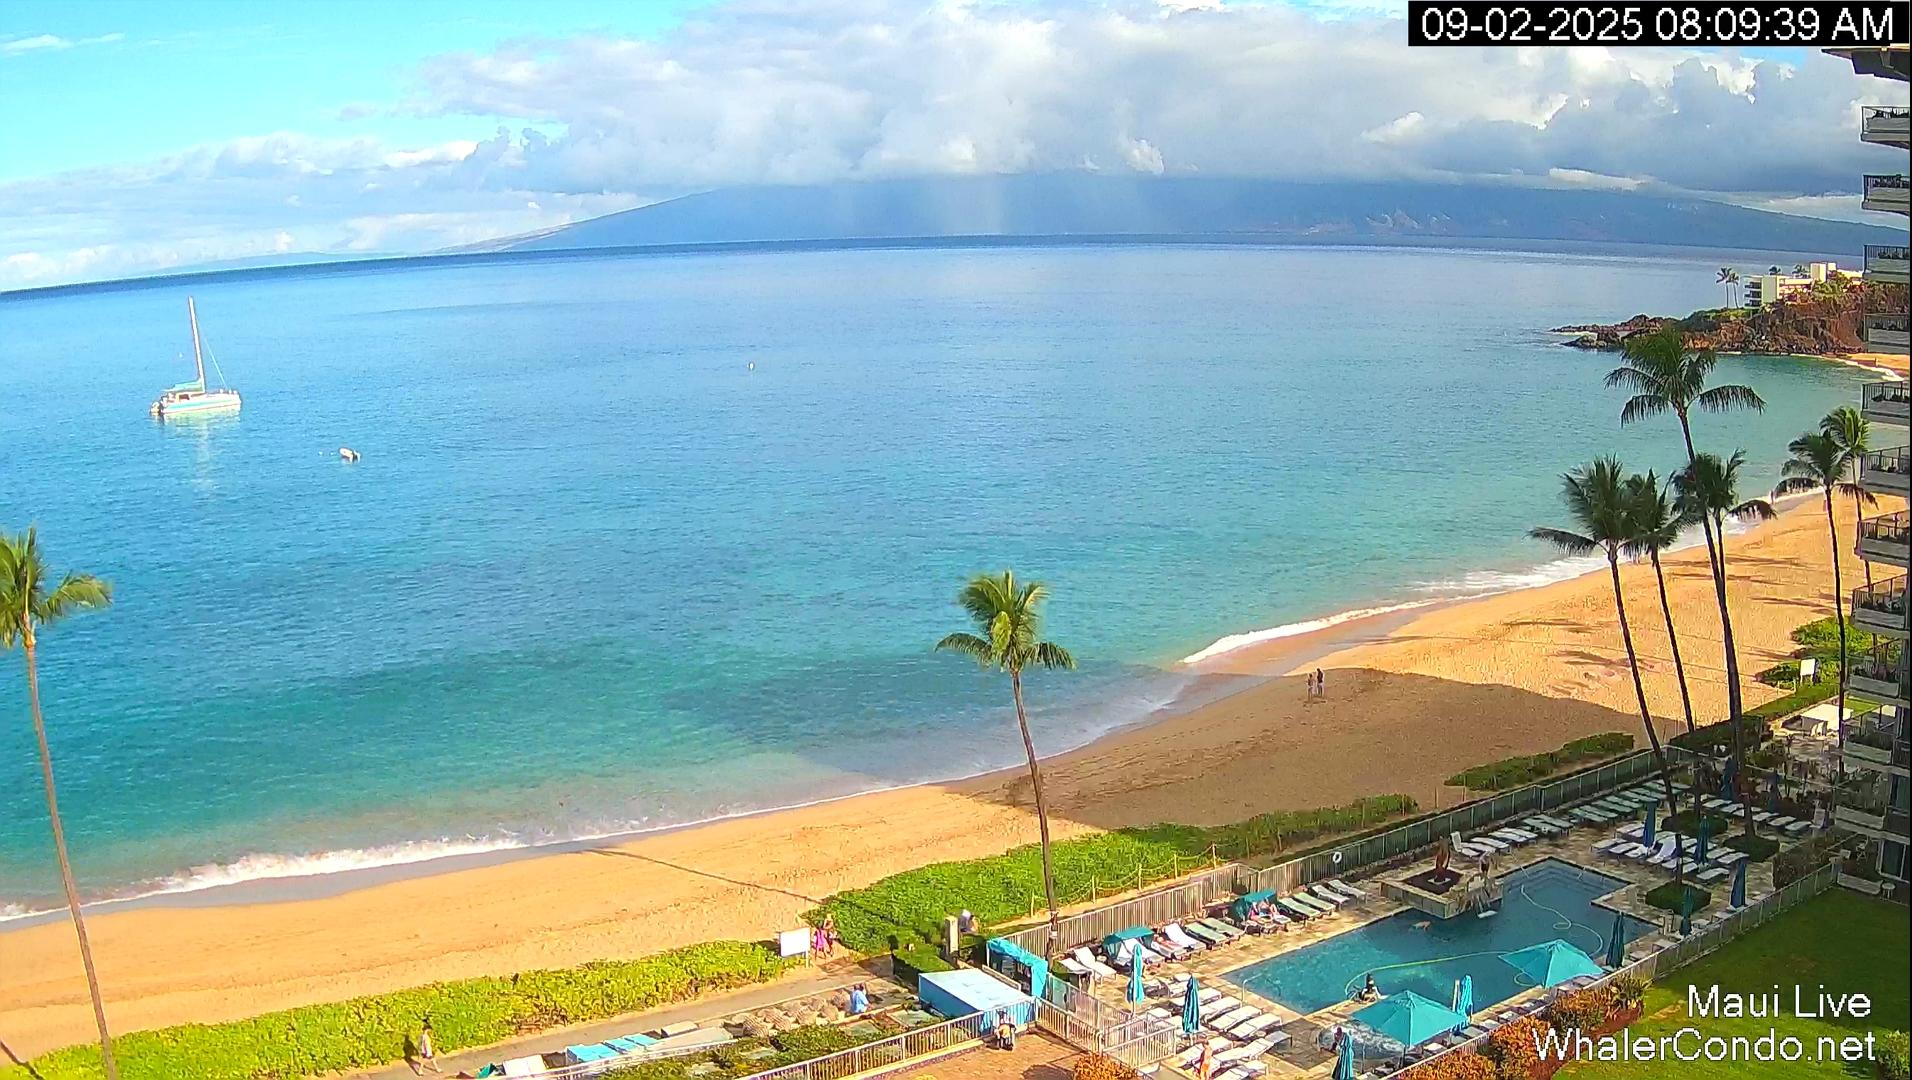boat: (148, 295, 243, 416), (337, 444, 362, 465)
person: (417, 1025, 444, 1076), (1149, 929, 1179, 952), (852, 983, 872, 1014), (823, 915, 837, 957), (814, 923, 828, 962), (964, 906, 982, 936), (1199, 1042, 1213, 1080), (1480, 846, 1493, 881), (1264, 899, 1283, 922), (1248, 905, 1266, 926), (1306, 673, 1316, 701), (1316, 667, 1324, 696), (1333, 1024, 1342, 1049)
